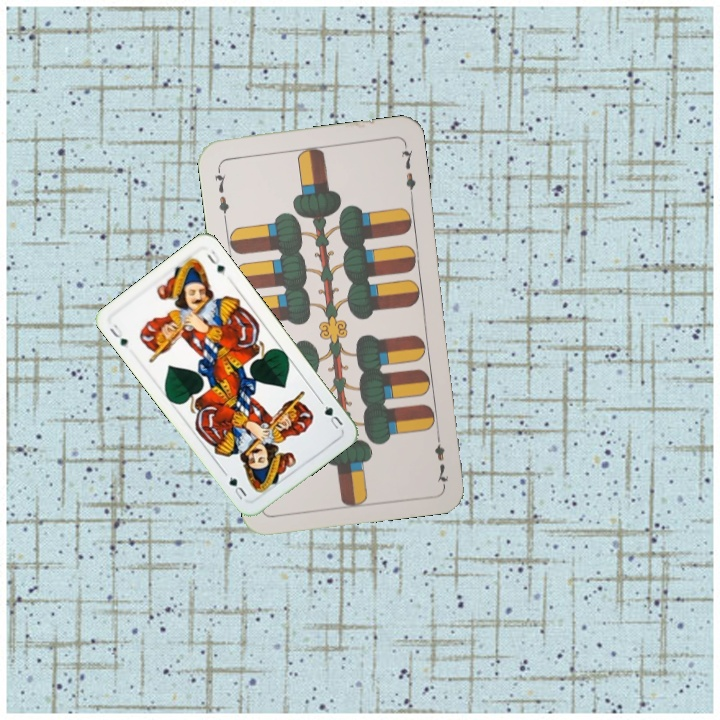E7: (210, 163, 232, 222), (431, 428, 451, 487)
GU: (316, 397, 346, 432), (105, 320, 130, 350)
